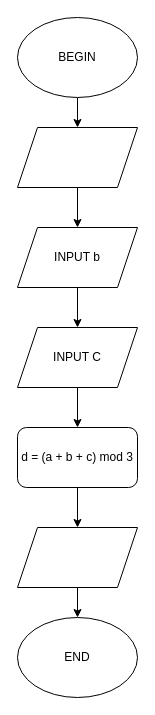
This 155x715 diagram has some shape labels left out. Here are the shapes that lost their labels. From the top down, the box of each, then its label:
(16, 126, 138, 188): INPUT a
(16, 526, 138, 588): OUTPUT d
